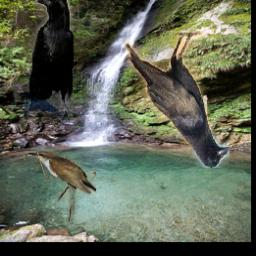Crow: (126, 31, 230, 168), (25, 0, 74, 121)
Cuckoo: (24, 152, 96, 222)
